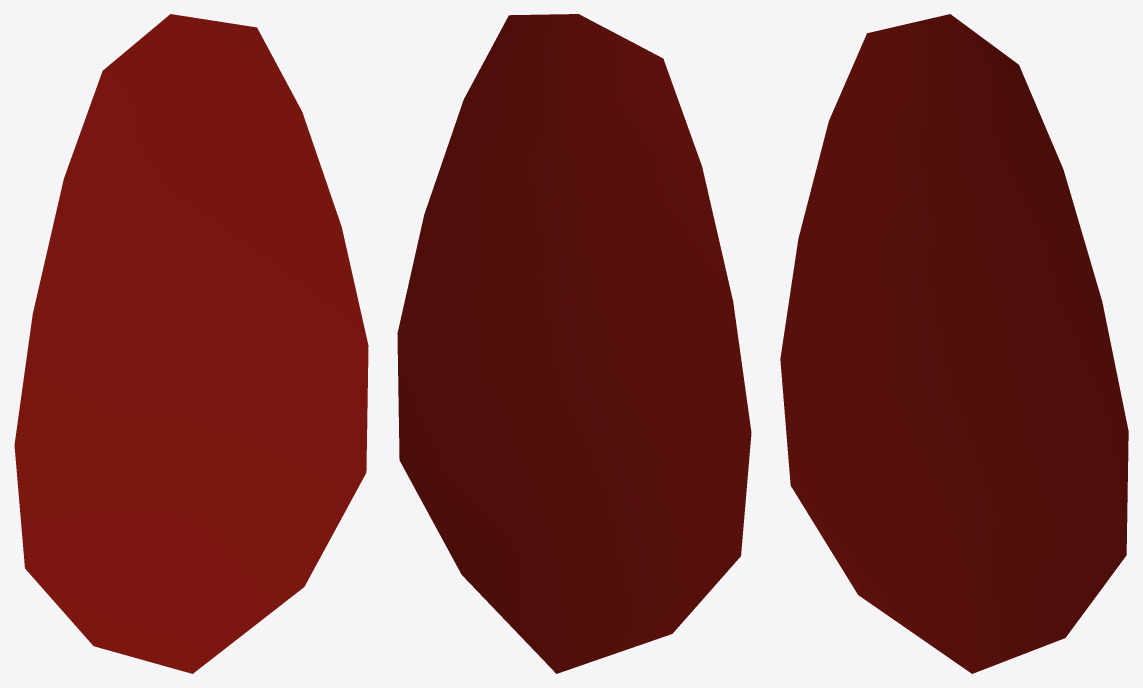
The model's file is ara_feather_flight_tertiary_039.obj.
3 views of the same model, side by side, from view 1: azimuth 30°, elevation 25°; view 2: azimuth 150°, elevation 25°; view 3: azimuth 330°, elevation 25° (orthographic).
Visible parts, largest first — view 1: feather_flight_tertiary_039; view 2: feather_flight_tertiary_039; view 3: feather_flight_tertiary_039.
Part boxes in pixels (box(x1,y1,x2,y2)): feather_flight_tertiary_039: box(14, 14, 368, 673); feather_flight_tertiary_039: box(397, 14, 751, 673); feather_flight_tertiary_039: box(780, 14, 1128, 673).
Bounding box in the file's own units: 0.0177 × 0.0317 × 0.000724.
